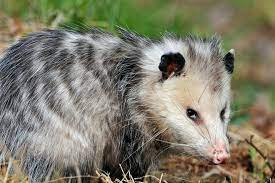opossum: (0, 26, 234, 181)
